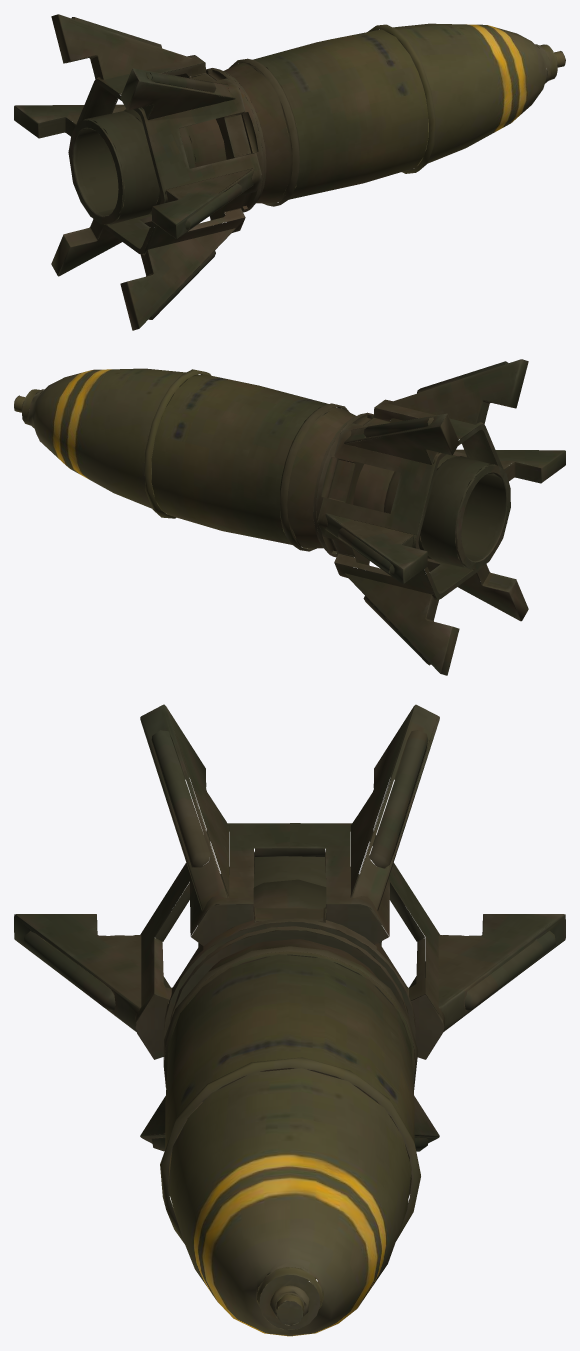
File: hebomb_3.glb
The picture shows the model from 3 angles, top to bottom: view 1: azimuth 30°, elevation 25°; view 2: azimuth 150°, elevation 25°; view 3: azimuth 270°, elevation 25°; orthographic projection. The views are drawn at different scales.
Visible parts, largest first — view 1: defaultMaterial; view 2: defaultMaterial; view 3: defaultMaterial.
Part boxes in pixels (x1,y1,x2,y2): defaultMaterial: (14,14,565,330); defaultMaterial: (14,359,565,675); defaultMaterial: (14,704,565,1336).
Size of the model in its own units: 0.9996 by 0.5364 by 0.6027.
Materials: 1 (1 with a texture image).
